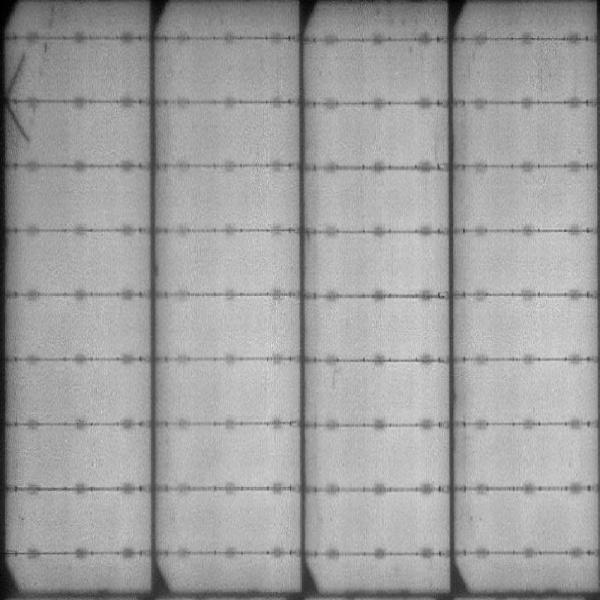broken: (3, 46, 35, 144)
